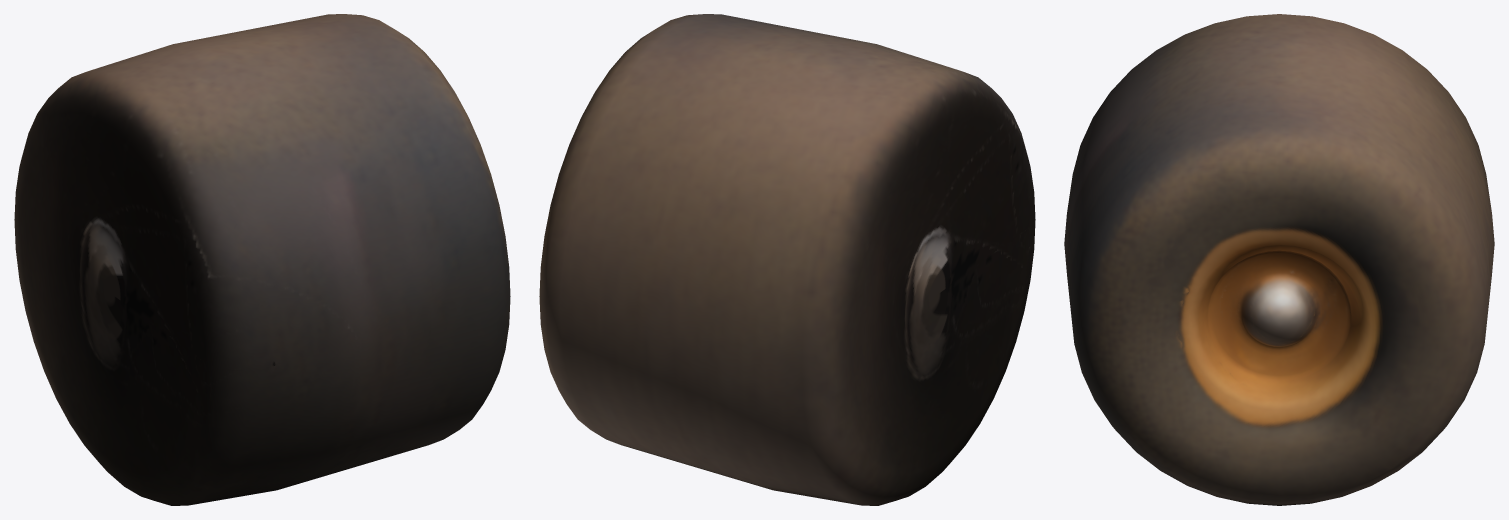
The picture shows the model from 3 angles, left to right: view 1: azimuth 30°, elevation 25°; view 2: azimuth 150°, elevation 25°; view 3: azimuth 270°, elevation 25°; orthographic projection. The views are drawn at different scales.
Parts seen in each view (by area): view 1: wheel_RL; view 2: wheel_RL; view 3: wheel_RL.
Part boxes in pixels (x1,y1,x2,y2): wheel_RL: (14, 14, 510, 505); wheel_RL: (539, 14, 1035, 505); wheel_RL: (1064, 14, 1494, 505).
Size of the model in its own units: 0.286 by 0.3708 by 0.3708.
Materials: 1 (1 with a texture image).
